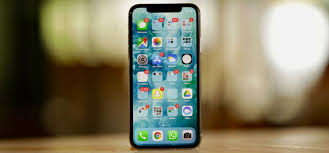iphone: (125, 2, 201, 146)
iphone10: (126, 3, 202, 147)
